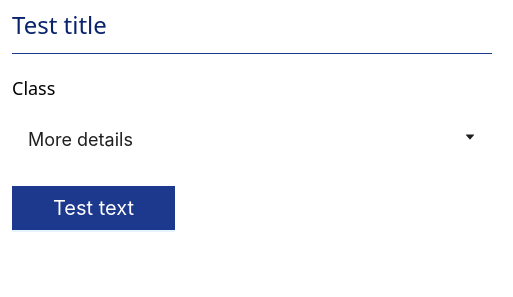
Test: EventDetails › click on collapse with extra text
This screenshot has width=513, height=297.
Step 1. Click the button with test id "moreBlock" → (80,140), box x1=28 y1=129 x2=476 y2=150
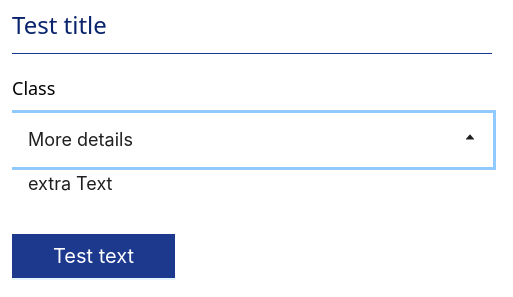
Now the text "extra Text" is shown, box x1=28 y1=173 x2=112 y2=194
